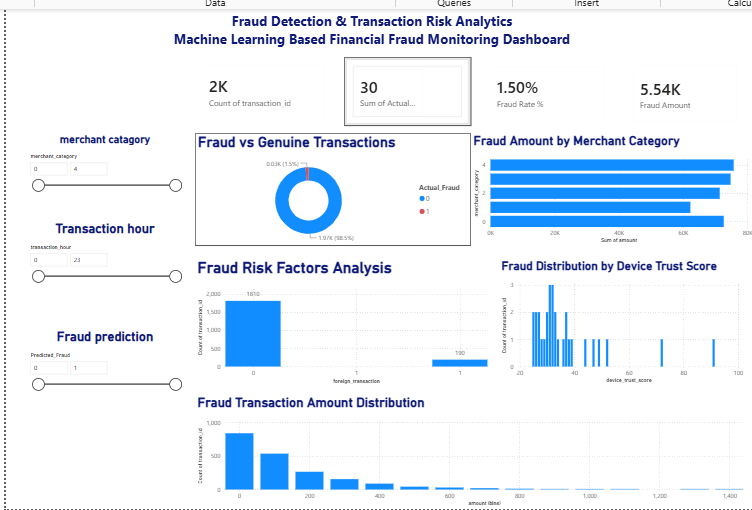

Layout of this report page (visuals, bound fields, positions):
{"tool":"powerbi","page":{"name":"Page 1","canvas":[1500,1002],"ordinal":0},"visuals":[{"type":"cardVisual","fields":{"Data":["Sum(fraud_dashboard_data.Actual_Fraud)"]},"box":[677.4,96.2,254.5,138.3],"z":1000},{"type":"cardVisual","fields":{"Data":["fraud_dashboard_data.Fraud Rate %"]},"box":[953.9,98.2,262.5,136.3],"z":2000},{"type":"cardVisual","fields":{"Data":["fraud_dashboard_data.Fraud Amount"]},"box":[1240.5,96.2,242.5,146.3],"z":3000},{"type":"textbox","box":[36.1,0,1394.8,96.2],"z":4000},{"type":"donutChart","title":"Fraud vs Genuine Transactions","fields":{"Category":["fraud_dashboard_data.Actual_Fraud"],"Y":["CountNonNull(fraud_dashboard_data.transaction_id)"]},"box":[378.8,248.5,553.1,226.5],"z":5000},{"type":"clusteredBarChart","title":"Fraud Amount by Merchant Category","fields":{"Category":["fraud_dashboard_data.merchant_category"],"Y":["Sum(fraud_dashboard_data.amount)"]},"box":[931.9,248.5,569.1,226.5],"z":6000},{"type":"clusteredColumnChart","title":"Fraud Risk Factors Analysis","fields":{"Category":["fraud_dashboard_data.foreign_transaction"],"Y":["CountNonNull(fraud_dashboard_data.transaction_id)"]},"box":[378.8,501,591.2,254.5],"z":7000},{"type":"clusteredColumnChart","title":"Fraud Distribution by Device Trust Score","fields":{"Category":["fraud_dashboard_data.device_trust_score"],"Y":["CountNonNull(fraud_dashboard_data.transaction_id)"]},"box":[988,501,495,254.5],"z":8000},{"type":"slicer","title":"merchant catagory","fields":{"Values":["fraud_dashboard_data.merchant_category"]},"box":[36.1,248.5,324.6,136.3],"z":8001},{"type":"slicer","title":"Transaction hour","fields":{"Values":["fraud_dashboard_data.transaction_hour"]},"box":[36.1,424.8,324.6,150.3],"z":8002},{"type":"slicer","title":"Fraud prediction","fields":{"Values":["fraud_dashboard_data.Predicted_Fraud"]},"box":[36.1,641.3,324.6,156.3],"z":8003},{"type":"clusteredColumnChart","title":"Fraud Transaction Amount Distribution","fields":{"Category":["fraud_dashboard_data.amount (bins)"],"Y":["CountNonNull(fraud_dashboard_data.transaction_id)"]},"box":[378.8,773.5,1104.2,228.5],"z":8004},{"type":"cardVisual","fields":{"Data":["CountNonNull(fraud_dashboard_data.transaction_id)"]},"box":[376.8,96.2,278.6,136.3],"z":8005}]}

Visuals, with their boxes on the page's 1500x1002 design canvas (x1, y1, x2, y2). These are canvas units, not pixel positions in the 752x510 screenshot, which may show the page scaled, cropped or inside an application window:
cardVisual - Sum(fraud_dashboard_data.Actual_Fraud): detection(677, 96, 932, 234)
cardVisual - fraud_dashboard_data.Fraud Rate %: detection(954, 98, 1216, 234)
cardVisual - fraud_dashboard_data.Fraud Amount: detection(1240, 96, 1483, 242)
textbox: detection(36, 0, 1431, 96)
"Fraud vs Genuine Transactions" donutChart: detection(379, 248, 932, 475)
"Fraud Amount by Merchant Category" clusteredBarChart: detection(932, 248, 1501, 475)
"Fraud Risk Factors Analysis" clusteredColumnChart: detection(379, 501, 970, 756)
"Fraud Distribution by Device Trust Score" clusteredColumnChart: detection(988, 501, 1483, 756)
"merchant catagory" slicer: detection(36, 248, 361, 385)
"Transaction hour" slicer: detection(36, 425, 361, 575)
"Fraud prediction" slicer: detection(36, 641, 361, 798)
"Fraud Transaction Amount Distribution" clusteredColumnChart: detection(379, 774, 1483, 1002)
cardVisual - CountNonNull(fraud_dashboard_data.transaction_id): detection(377, 96, 655, 232)
